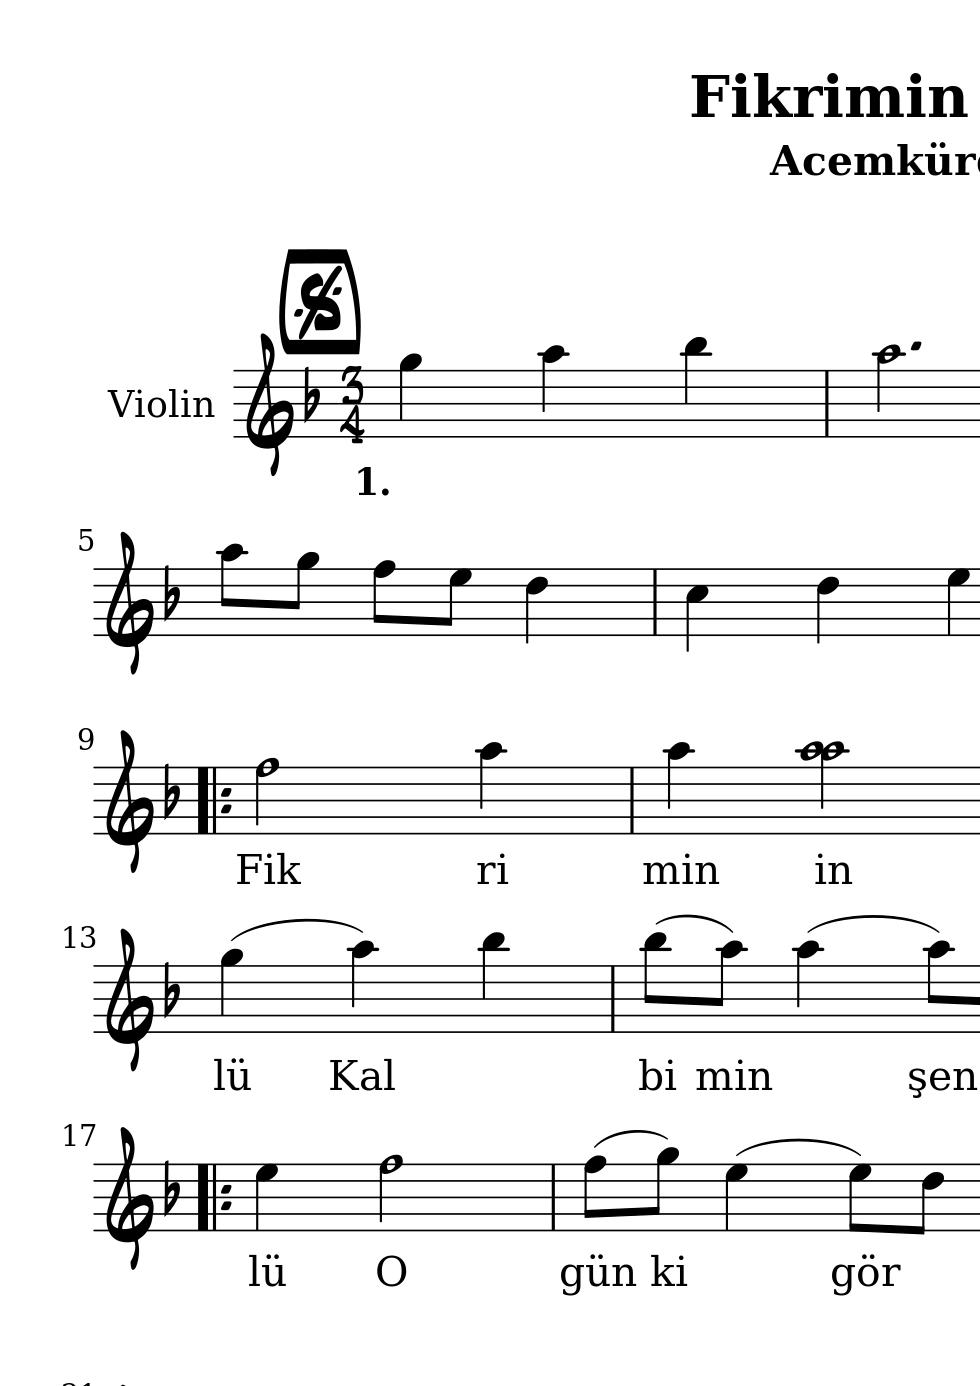1: (62, 923, 76, 951), (62, 1122, 76, 1150)
2_10: (872, 343, 902, 441)
2_8: (252, 756, 280, 838), (377, 1152, 404, 1233)
3: (339, 363, 367, 404), (78, 923, 97, 952)
4: (340, 363, 365, 435), (339, 404, 366, 444)
4_10: (538, 343, 568, 439), (664, 740, 694, 838), (348, 938, 378, 1035), (793, 938, 823, 1034), (476, 739, 505, 837)
4_11: (680, 334, 708, 439), (479, 931, 507, 1035)
4_5: (682, 566, 710, 654)
4_6: (813, 566, 841, 647), (523, 567, 548, 646)
4_7: (944, 566, 972, 638), (252, 1162, 280, 1234), (723, 1162, 749, 1234)
4_9: (397, 352, 422, 440), (218, 948, 243, 1035)
5: (77, 525, 94, 554)
7: (78, 1121, 97, 1150)
8_10: (705, 938, 746, 1035), (923, 940, 953, 1034), (218, 542, 246, 639)
8_11: (640, 931, 669, 1037)
8_6: (911, 1161, 944, 1236)
8_7: (439, 567, 471, 636), (846, 1162, 873, 1235)
8_8: (580, 1154, 607, 1234), (370, 558, 396, 638)
8_9: (283, 551, 319, 638), (643, 1146, 679, 1233)
9: (76, 725, 94, 753)
Flat: (300, 364, 322, 424), (161, 1158, 182, 1217), (161, 960, 182, 1018), (161, 761, 181, 821), (161, 564, 181, 622)
Gclef: (103, 1125, 154, 1270), (104, 528, 154, 676), (244, 331, 294, 477), (104, 926, 154, 1071), (105, 727, 154, 872)
LeftRepeatSign: (194, 1160, 233, 1233), (193, 765, 233, 836)
Segno: (291, 266, 346, 335)
Single_barline: (817, 370, 836, 437), (623, 767, 642, 834), (545, 1164, 563, 1231), (646, 569, 664, 635), (603, 966, 622, 1031)
Slur: (229, 917, 365, 940), (735, 1137, 861, 1157), (805, 916, 942, 934), (591, 1128, 668, 1150), (657, 914, 733, 935)
TimeSig: (337, 365, 368, 446)
Vln: (105, 384, 217, 422)
